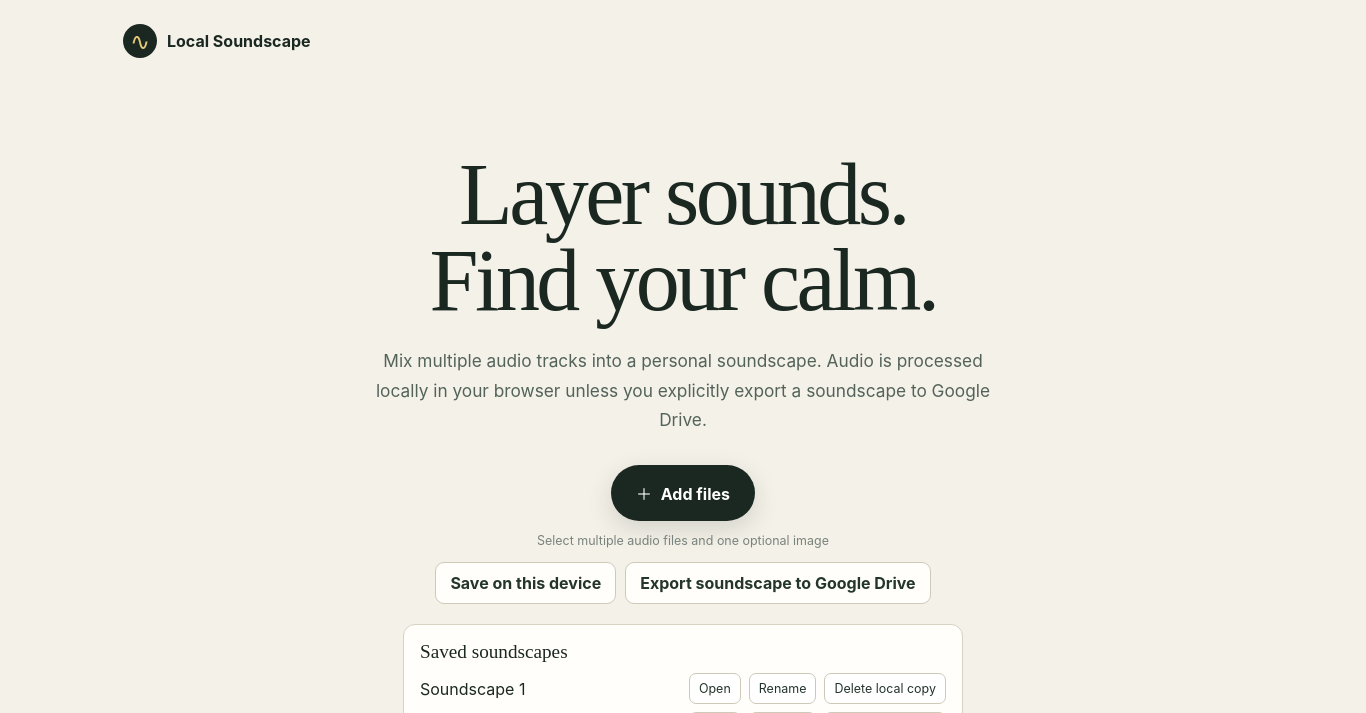
Test: App › renames current and non-current saved soundscapes independently
Click the button with aria-label "Open Soundscape 1": click(715, 689) [689, 673, 741, 704]
(page scrolled)
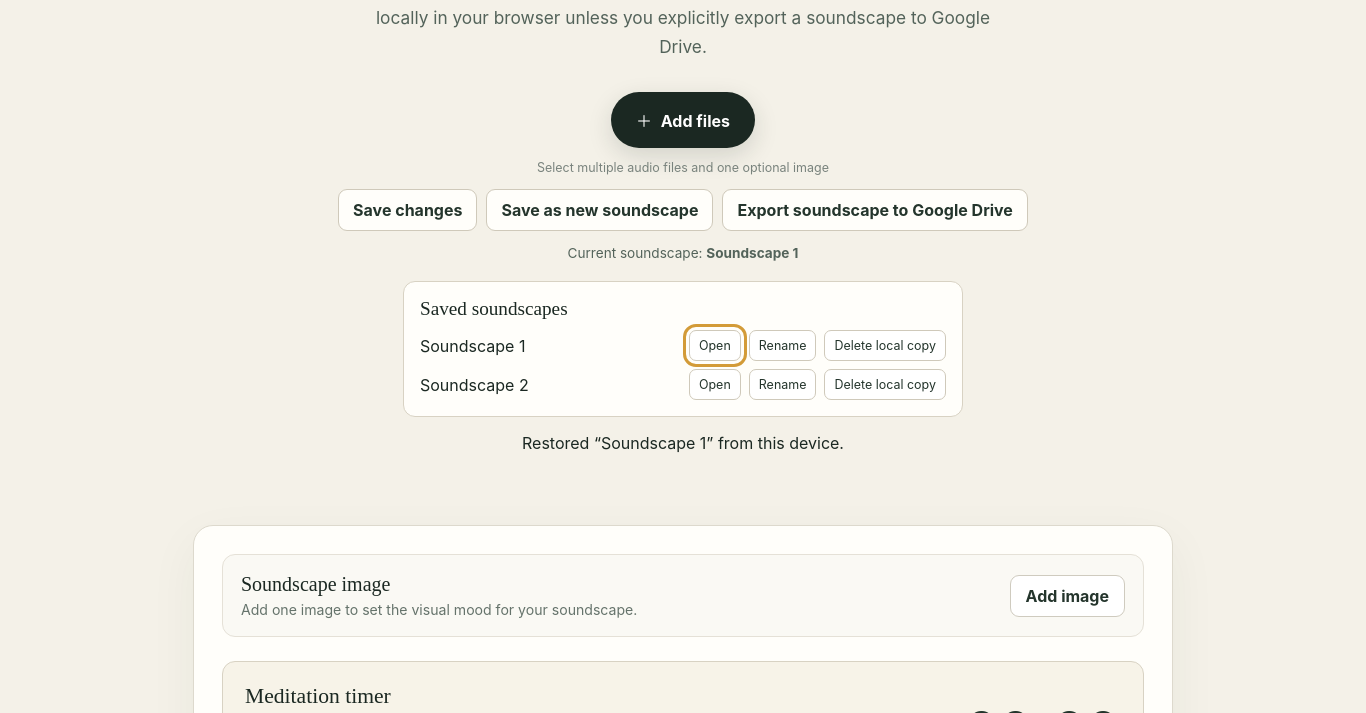
Click the button with aria-label "Rename Soundscape 2": click(783, 385) [749, 369, 816, 400]
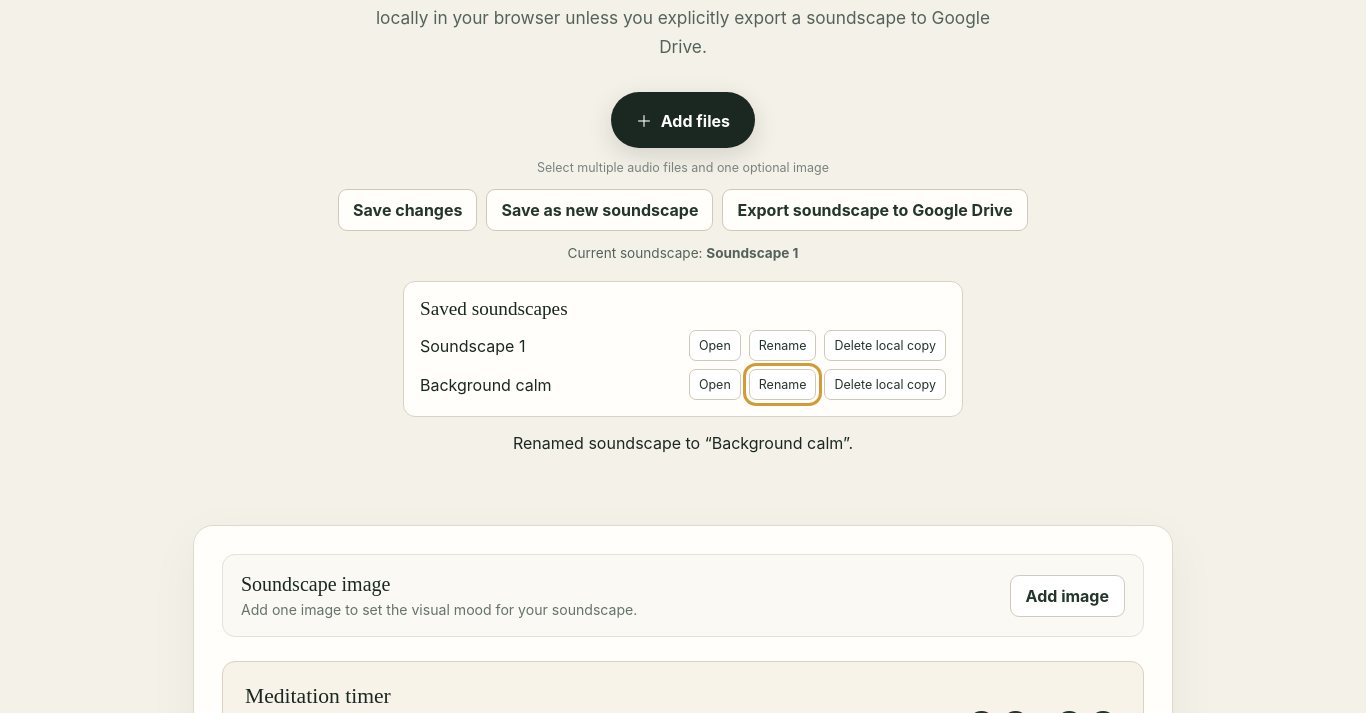
Expected: the button with aria-label "Open Background calm" is shown, [689, 369, 741, 400]
Now the text "Current soundscape: Soundscape 1" is shown, box [568, 245, 798, 261]
Click the button with aria-label "Rename Soundscape 1": click(783, 346) [749, 330, 816, 361]
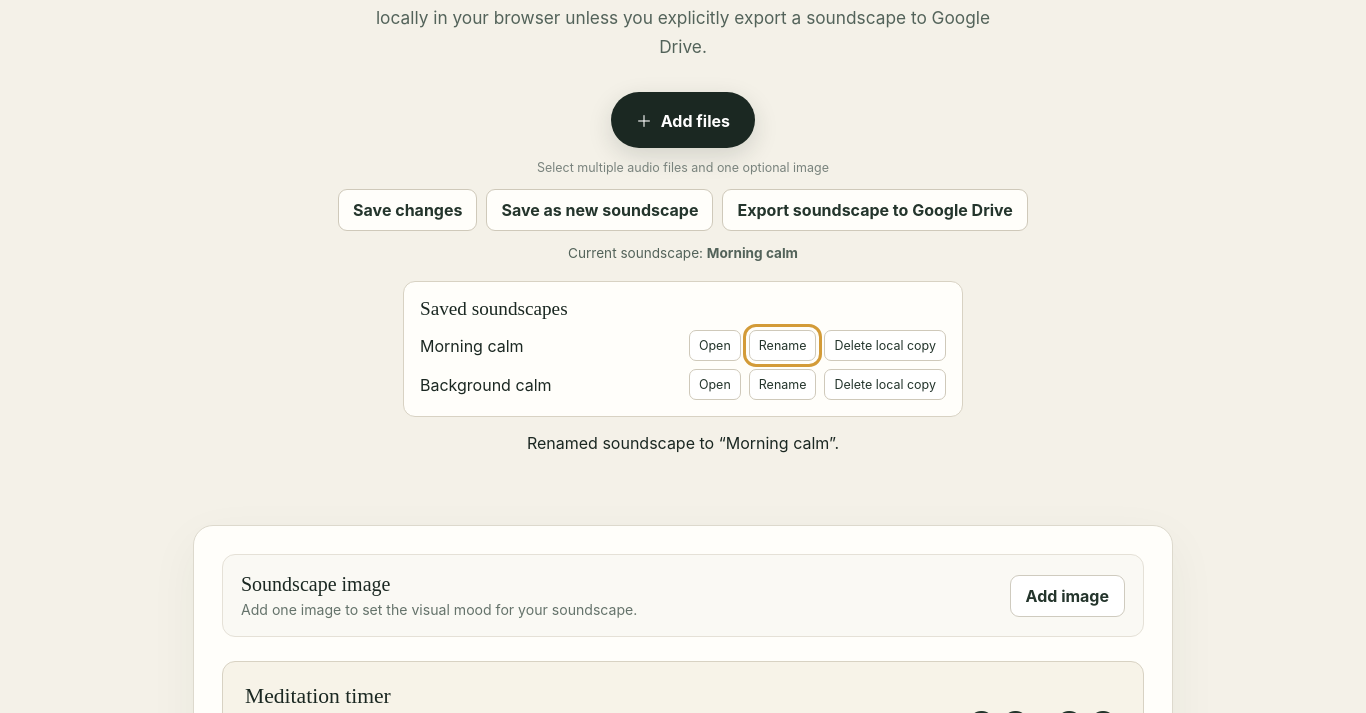
Now the text "Current soundscape: Morning calm" is shown, box [568, 245, 798, 261]
